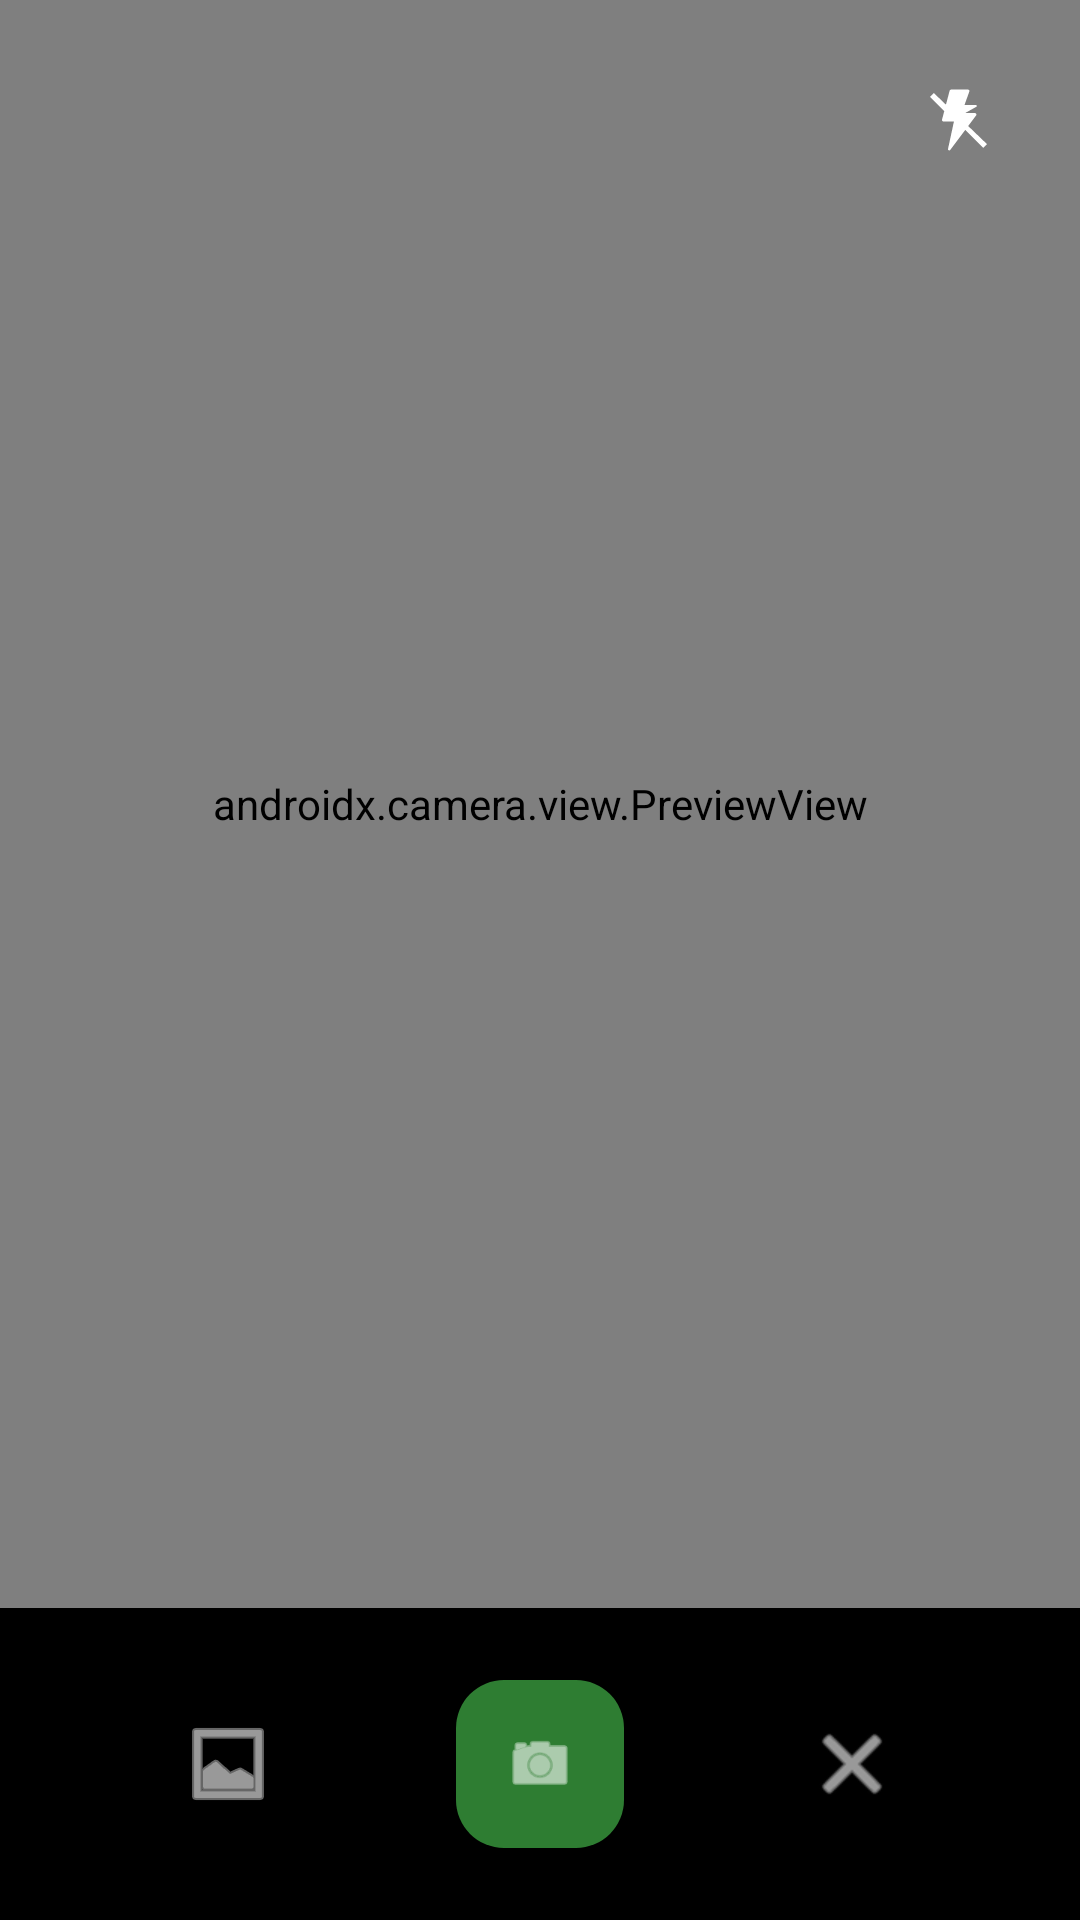

Point at icon controls on the screen. Image size 1080 × 1920, points as point (x, y).
Cancel: point (852, 1764)
Capture: point (540, 1764)
Flash off: point (958, 120)
Gallery: point (228, 1764)
